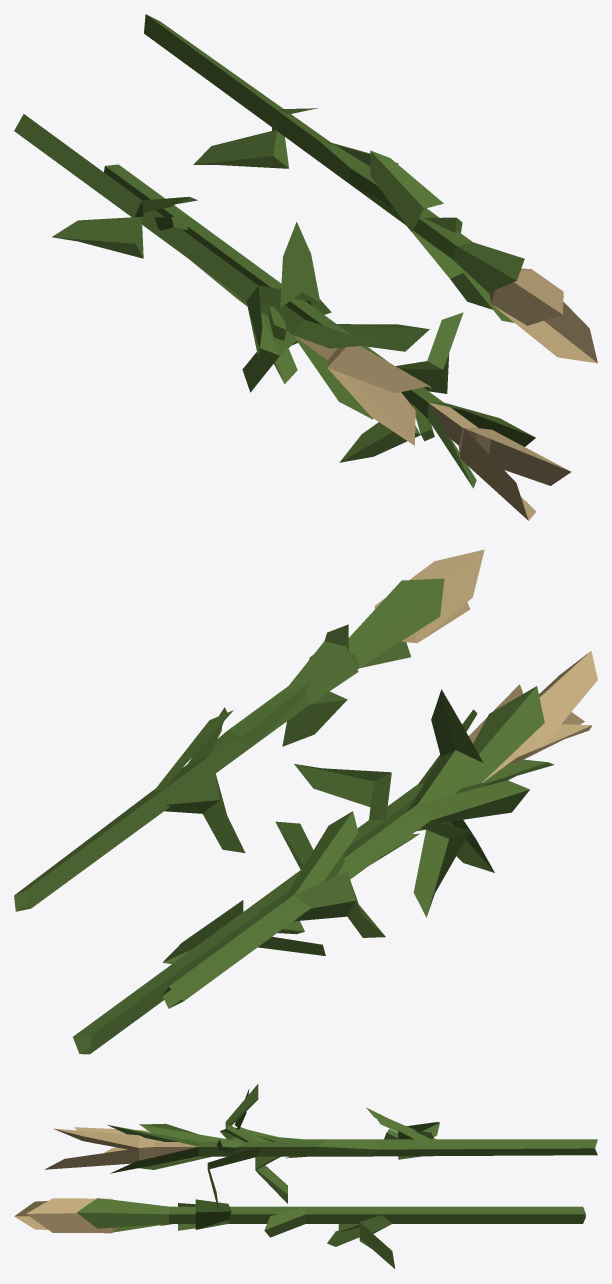
The model's file is stage_2.obj.
3 views of the same model, one above another, from view 1: azimuth 30°, elevation 25°; view 2: azimuth 150°, elevation 25°; view 3: azimuth 270°, elevation 25° (orthographic). The views are drawn at different scales.
Parts seen in each view (by area): view 1: corn_stage2; view 2: corn_stage2; view 3: corn_stage2.
Part boxes in pixels (bbox=[...]): corn_stage2: bbox=[14, 14, 597, 520]; corn_stage2: bbox=[14, 549, 597, 1054]; corn_stage2: bbox=[14, 1084, 597, 1268].
Size of the model in its own units: 0.3685 by 0.3465 by 1.08.
